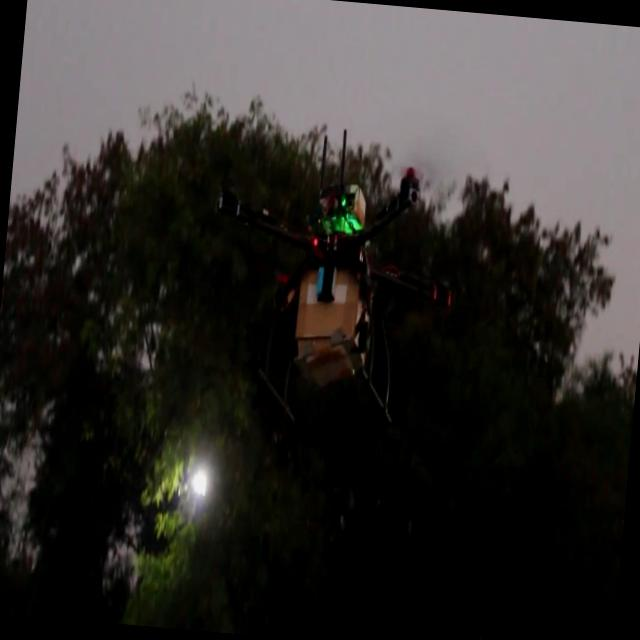drone: (204, 116, 466, 435)
